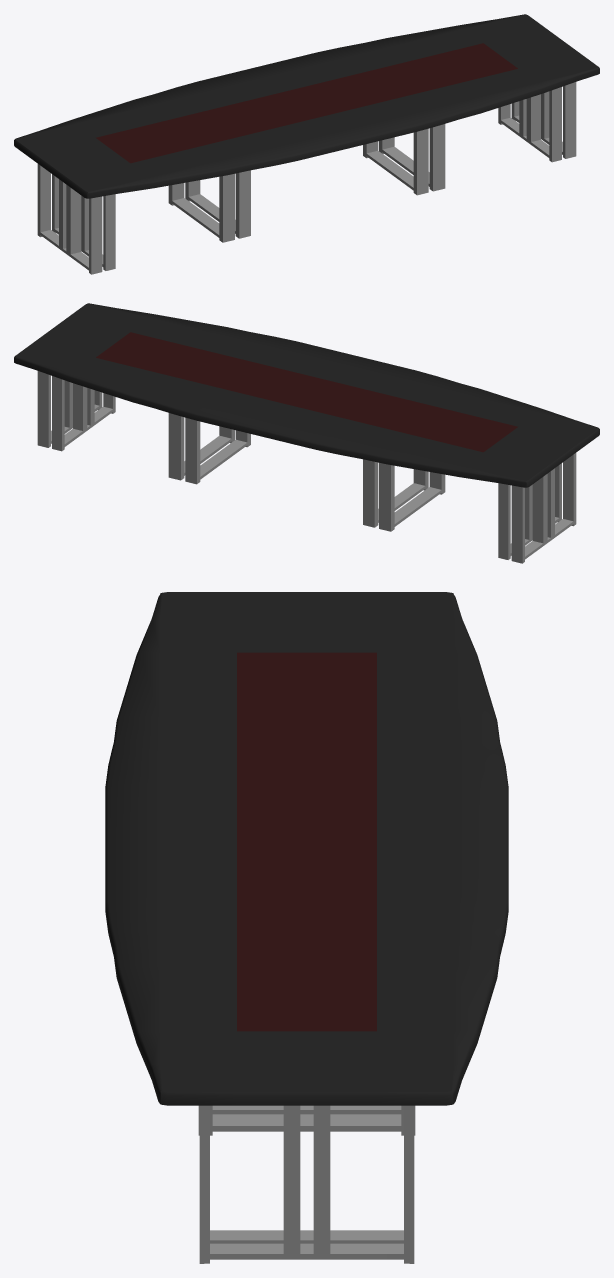
Rendered from FBX_Tablereunion.fbx.
The picture shows the model from 3 angles, top to bottom: view 1: azimuth 30°, elevation 25°; view 2: azimuth 150°, elevation 25°; view 3: azimuth 270°, elevation 25°; orthographic projection. The views are drawn at different scales.
Parts seen in each view (by area): view 1: table2; view 2: table2; view 3: table2.
Boxes of the visible parts, x1,y1,x2,y2 form: table2: [14, 14, 599, 274]; table2: [14, 303, 599, 563]; table2: [105, 592, 508, 1263].
Size of the model in its own units: 676 by 116 by 229.
